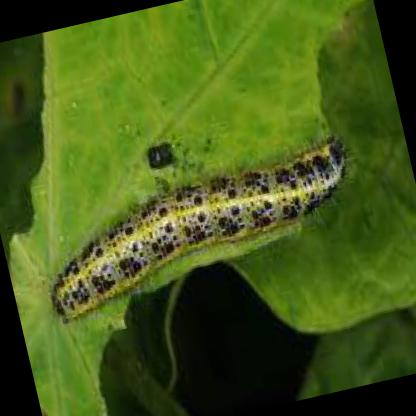pieris: (51, 136, 351, 324)
